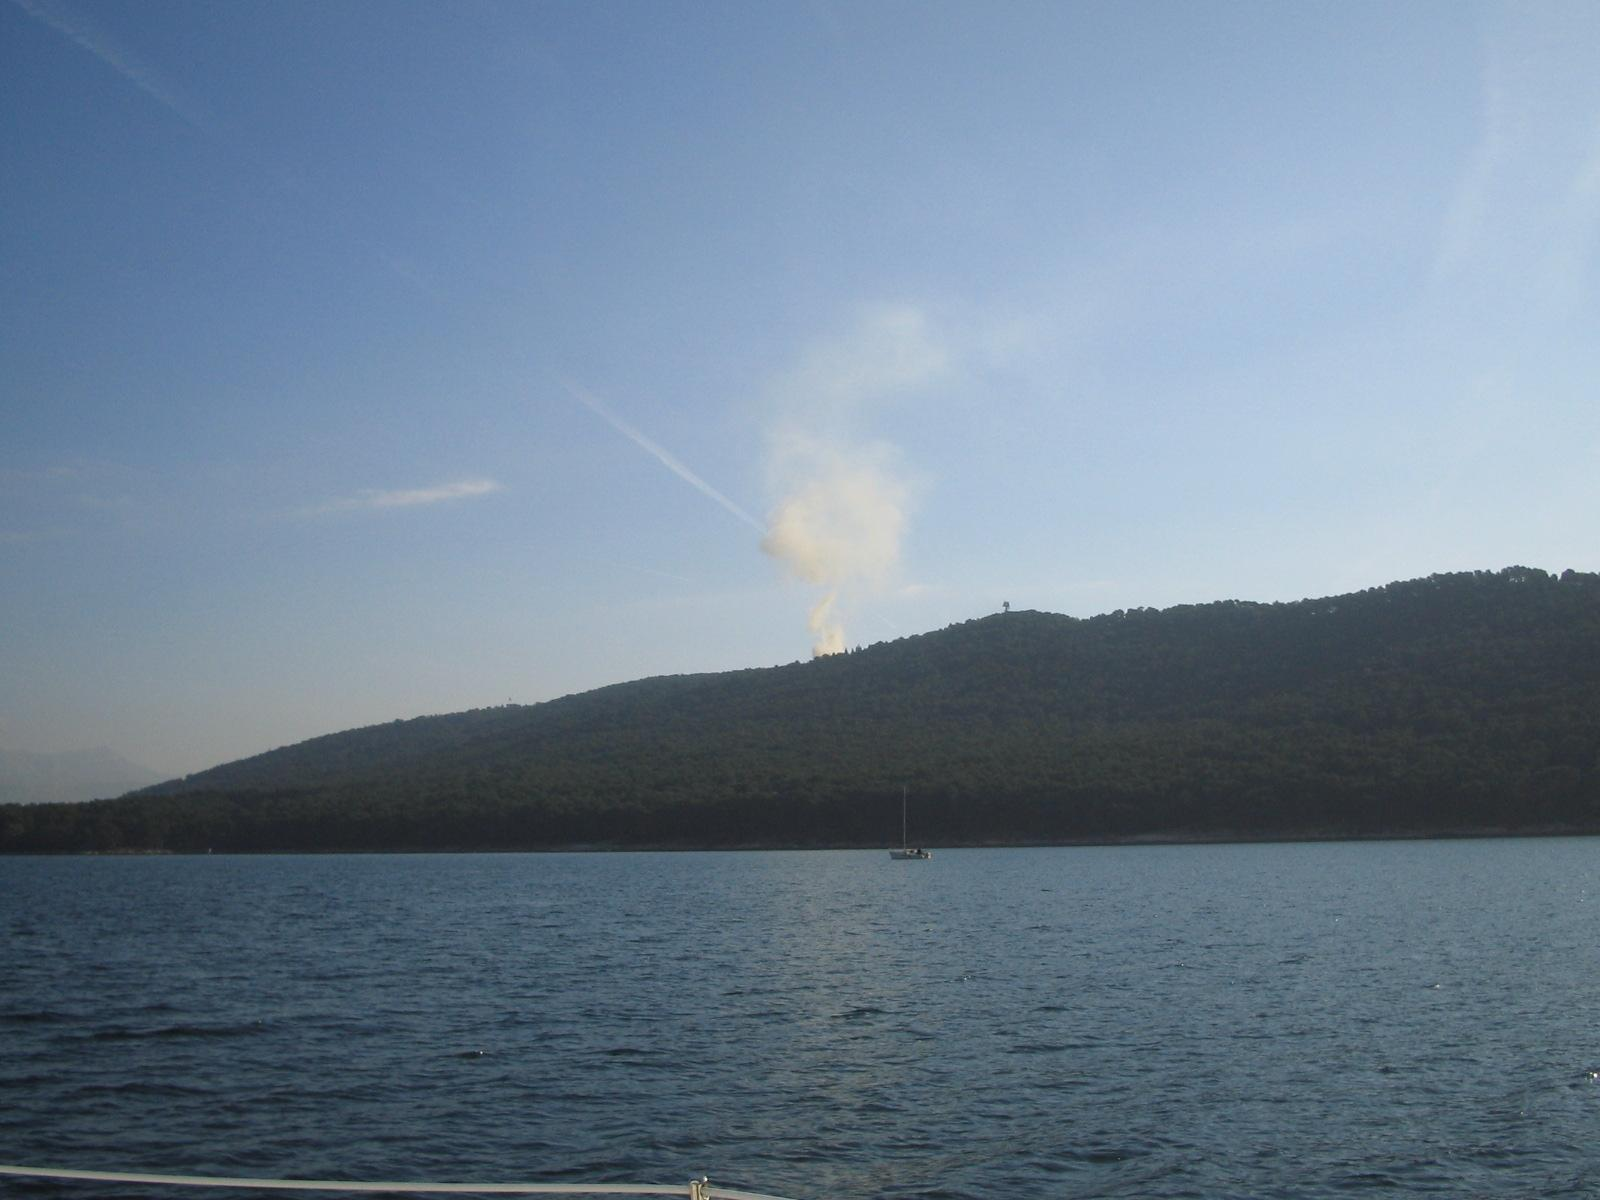Smoke: (756, 292, 947, 667)
